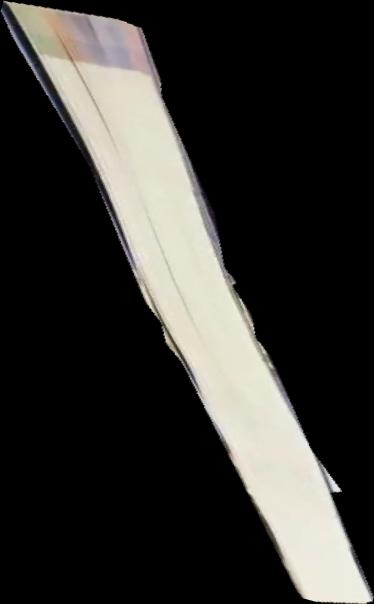backward: (1, 1, 374, 604)
